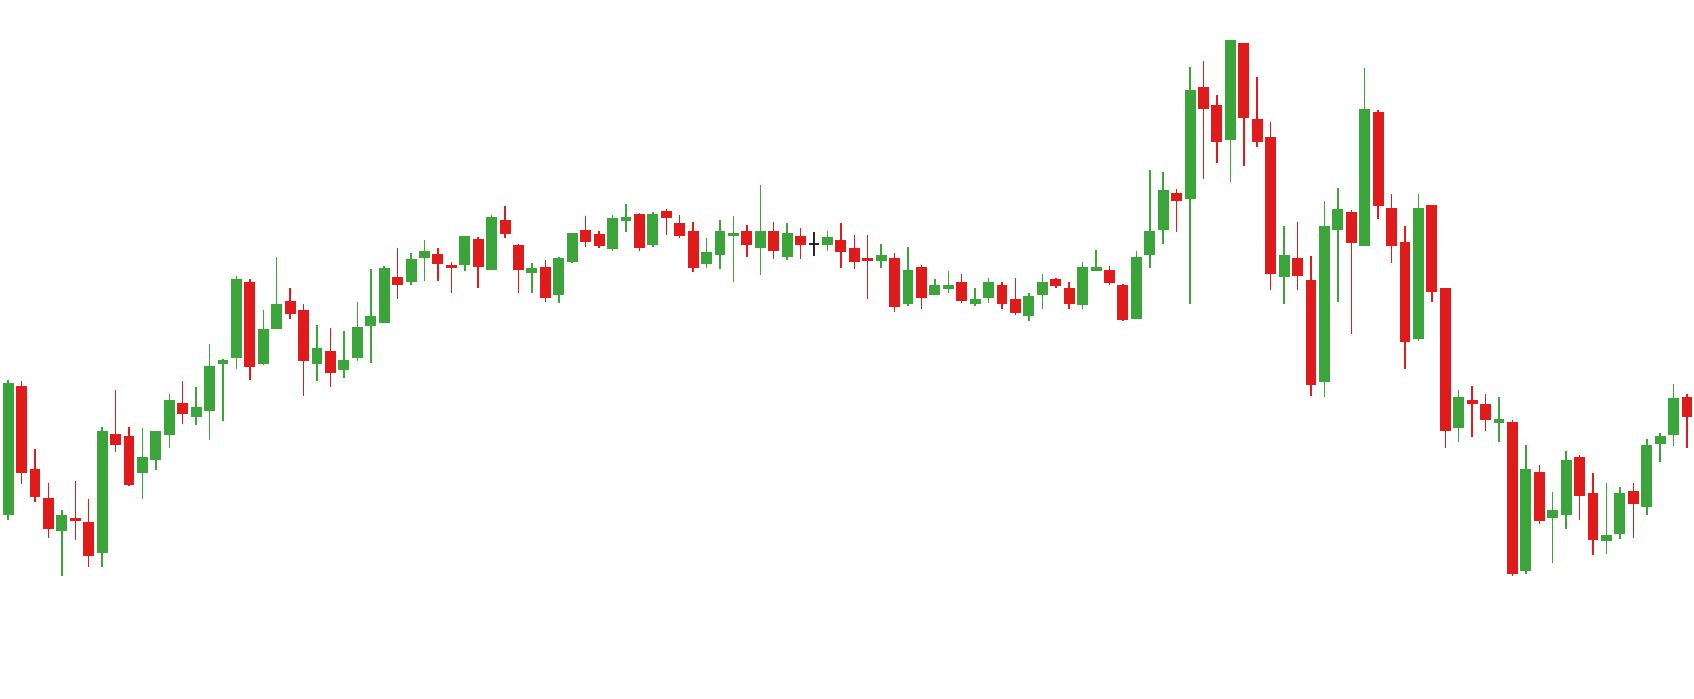sell: (1249, 67, 1388, 263)
